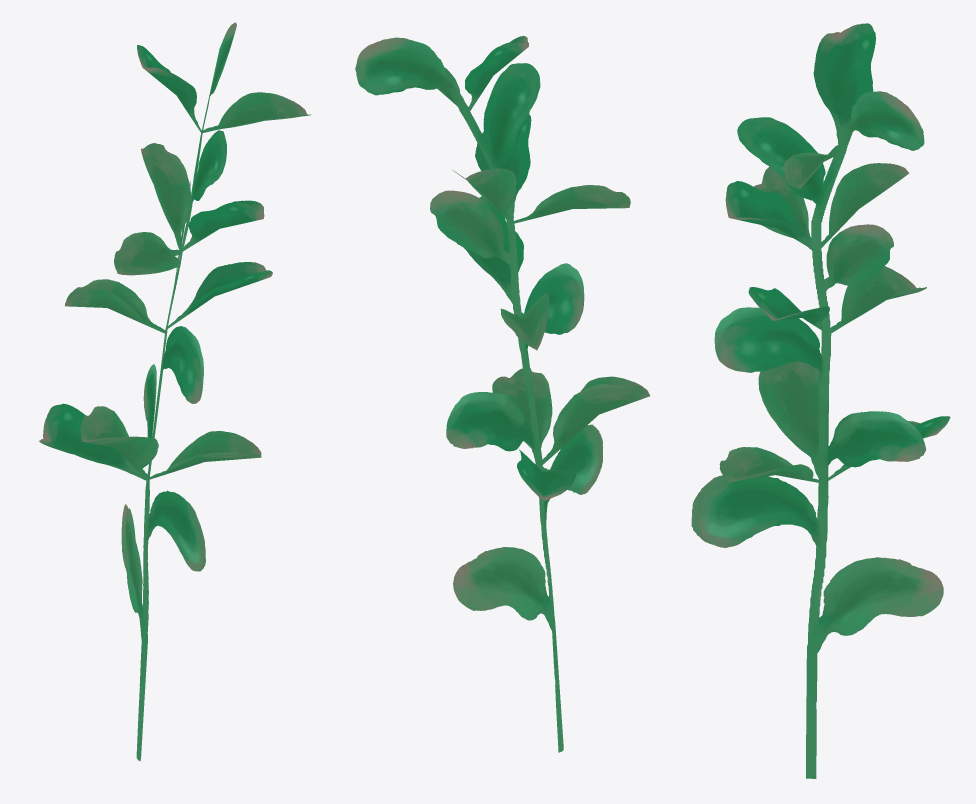
File: MEADOW_SM_Plant_02_01.gltf
The picture shows the model from 3 angles, left to right: view 1: azimuth 30°, elevation 25°; view 2: azimuth 150°, elevation 25°; view 3: azimuth 270°, elevation 25°; orthographic projection. The views are drawn at different scales.
Parts seen in each view (by area): view 1: SM_Plant_02_01_LOD0; view 2: SM_Plant_02_01_LOD0; view 3: SM_Plant_02_01_LOD0.
Part boxes in pixels (<box>): SM_Plant_02_01_LOD0: <box>39,22,311,761</box>; SM_Plant_02_01_LOD0: <box>355,35,650,752</box>; SM_Plant_02_01_LOD0: <box>691,23,950,778</box>.
Size of the model in its own units: 0.3118 by 0.8436 by 0.2741.
1 material, 1 textured.
